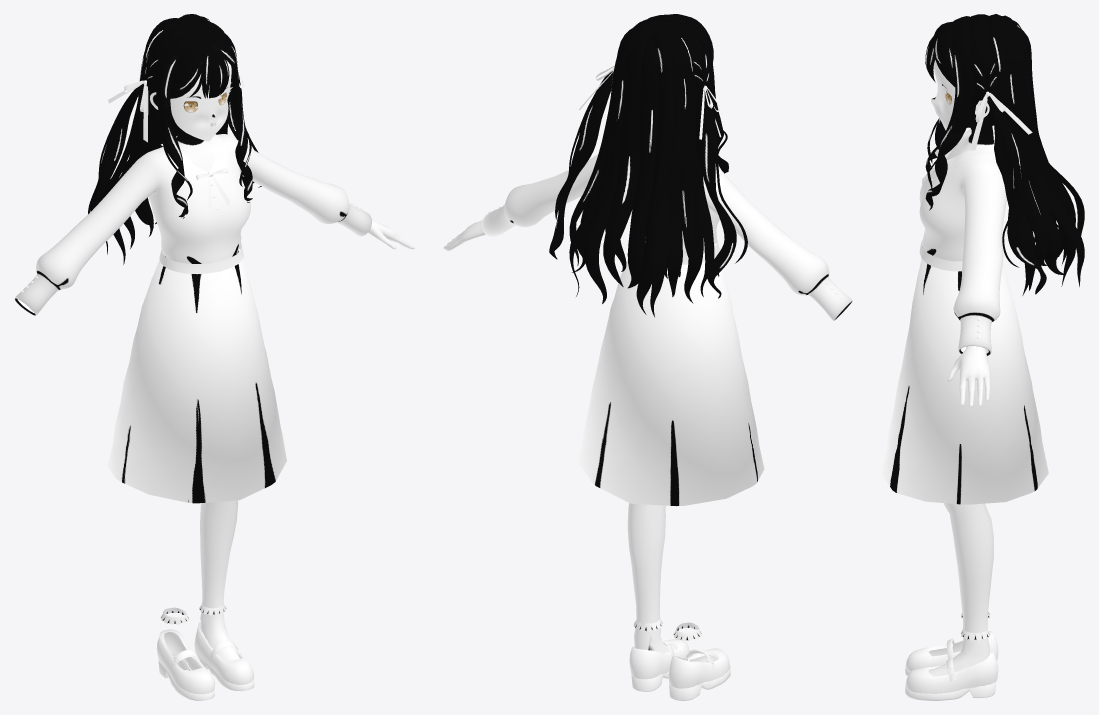
The model's file is saki.gltf.
The picture shows the model from 3 angles, left to right: view 1: azimuth 30°, elevation 25°; view 2: azimuth 150°, elevation 25°; view 3: azimuth 270°, elevation 25°; orthographic projection. The views are drawn at different scales.
Visible parts, largest first — view 1: clo.005, clo.006, hair.014, saki_body, clo.002, face, clo.004; view 2: hair.014, clo.005, clo.006, saki_body, clo.002; view 3: clo.005, hair.014, clo.006, saki_body, clo.002, face, clo, clo.004.
Boxes of the visible parts, x1=… form: clo.005: x1=107, y1=250, x2=286, y2=503; clo.006: x1=14, y1=134, x2=371, y2=315; hair.014: x1=88, y1=14, x2=261, y2=264; saki_body: x1=200, y1=220, x2=414, y2=662; clo.002: x1=156, y1=622, x2=254, y2=700; face: x1=150, y1=60, x2=232, y2=172; clo.004: x1=159, y1=242, x2=243, y2=274; hair.014: x1=549, y1=14, x2=747, y2=316; clo.005: x1=578, y1=245, x2=764, y2=506; clo.006: x1=482, y1=154, x2=852, y2=320; saki_body: x1=443, y1=220, x2=675, y2=653; clo.002: x1=629, y1=639, x2=730, y2=700; clo.005: x1=881, y1=258, x2=1048, y2=504; hair.014: x1=925, y1=14, x2=1084, y2=295; clo.006: x1=919, y1=129, x2=1006, y2=356; saki_body: x1=928, y1=346, x2=993, y2=676; clo.002: x1=905, y1=631, x2=998, y2=700; face: x1=931, y1=60, x2=994, y2=159; clo: x1=969, y1=91, x2=1032, y2=150; clo.004: x1=919, y1=239, x2=962, y2=271.
Bounding box in the file's own units: 3.69 × 5.82 × 1.62.
6 materials, 6 textured.
